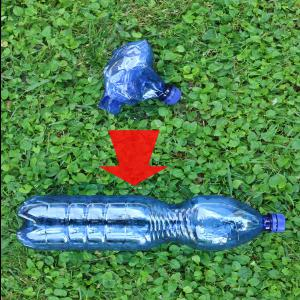Plastic-bottle: (15, 196, 286, 253), (98, 41, 182, 116)
